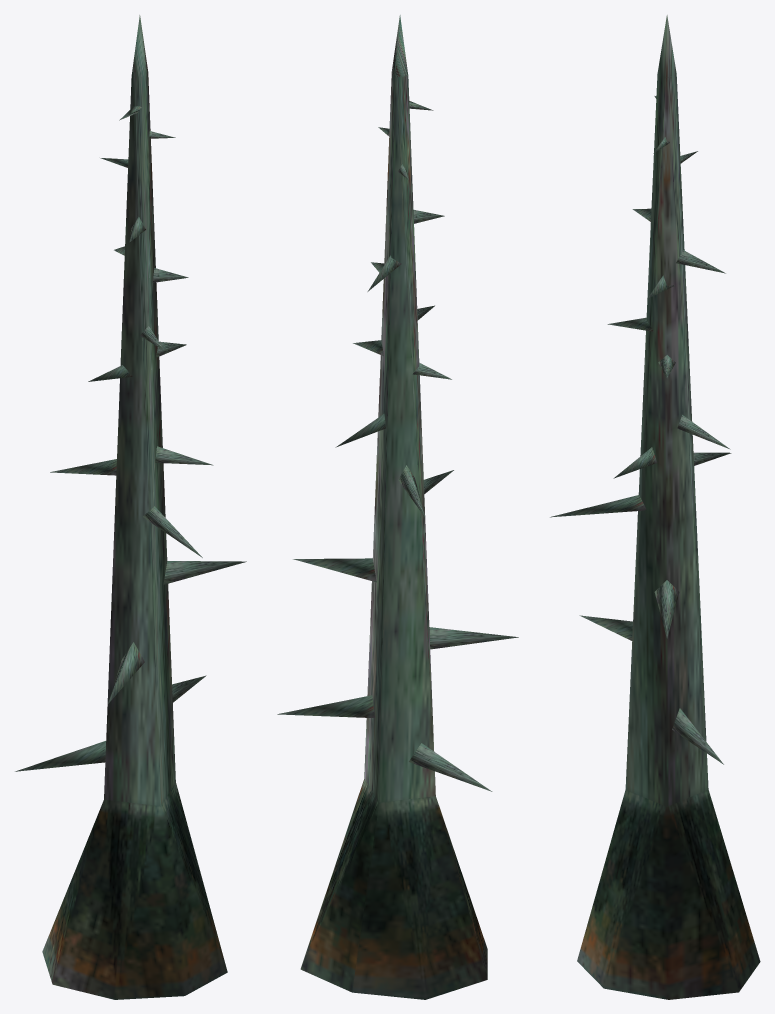
Rendered from conf_spiky_l3.fbx.
3 renders of one model, left to right at view 1: azimuth 30°, elevation 25°; view 2: azimuth 150°, elevation 25°; view 3: azimuth 270°, elevation 25°, orthographic.
Parts seen in each view (by area): view 1: mesh_node; view 2: mesh_node; view 3: mesh_node.
Part boxes in pixels (x1,y1,x2,y2): mesh_node: [15, 15, 246, 999]; mesh_node: [277, 15, 518, 999]; mesh_node: [550, 15, 760, 999].
Size of the model in its own units: 5.61 by 23.4 by 4.75.
1 material, 1 textured.
